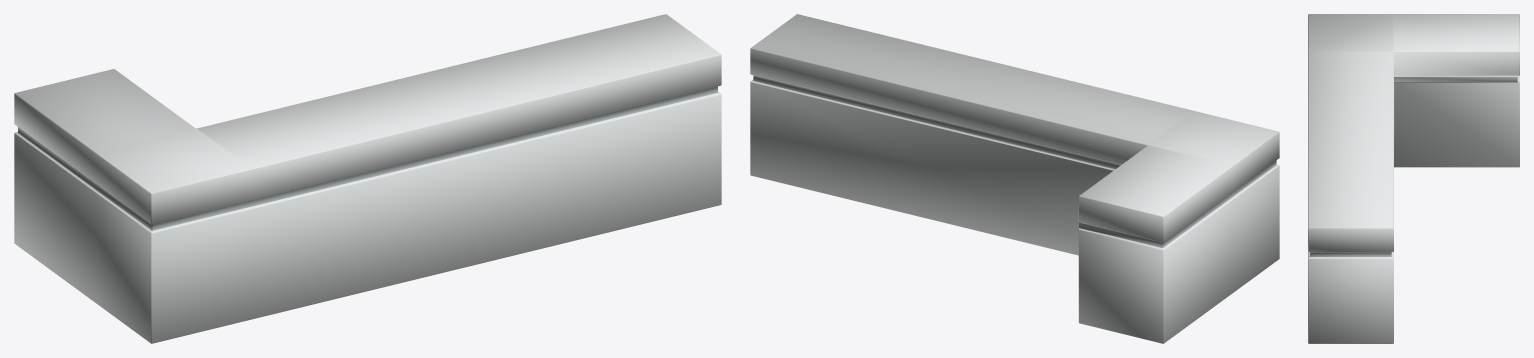
The model's file is Secretary-Desk.fbx.
3 renders of one model, left to right at view 1: azimuth 30°, elevation 25°; view 2: azimuth 150°, elevation 25°; view 3: azimuth 270°, elevation 25°, orthographic. The views are drawn at different scales.
Parts seen in each view (by area): view 1: Secretary-Desk; view 2: Secretary-Desk; view 3: Secretary-Desk.
Boxes of the visible parts, left/top/right/bottom form: Secretary-Desk: left=14, top=14, right=721, bottom=343; Secretary-Desk: left=750, top=14, right=1279, bottom=343; Secretary-Desk: left=1308, top=14, right=1519, bottom=343.
Bounding box in the file's own units: 5.64 × 1.42 × 2.35.
